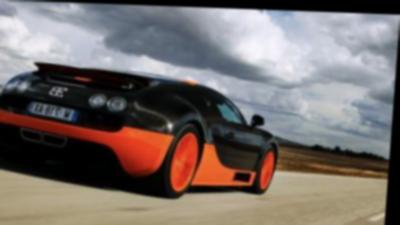License_Plate: (28, 91, 78, 128)
